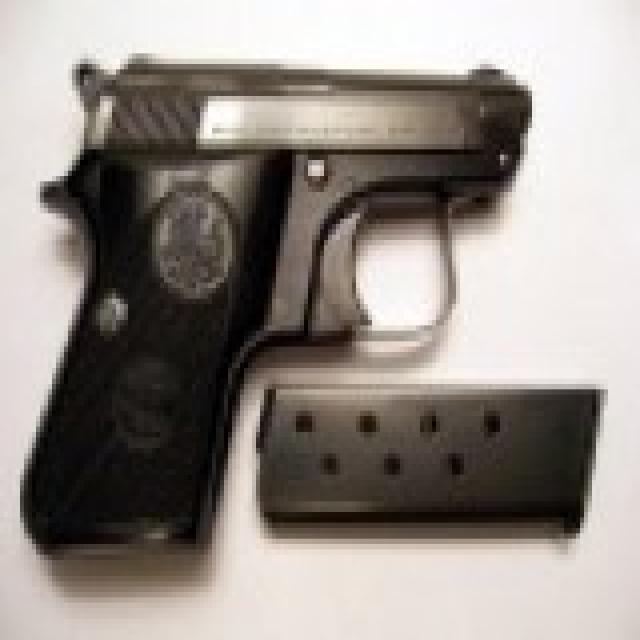Gun: (30, 28, 584, 585)
